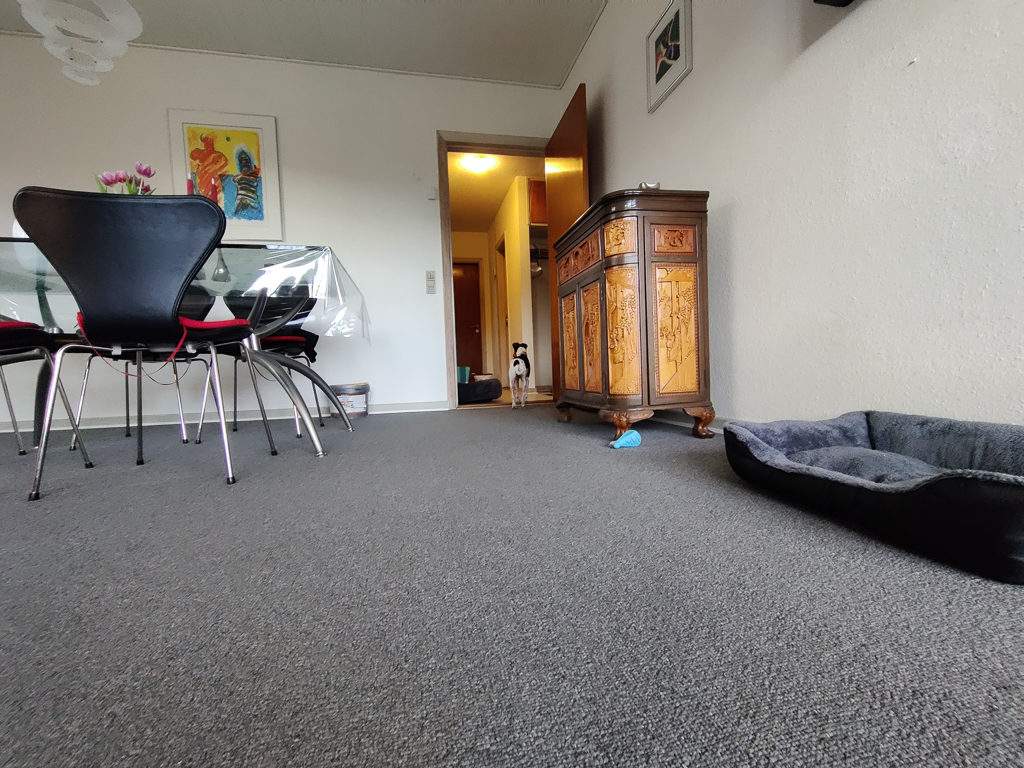Dog: (505, 339, 534, 411)
